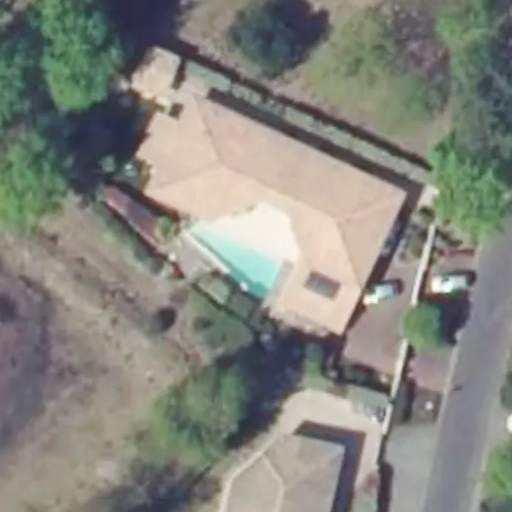pool: (191, 236, 310, 246)
